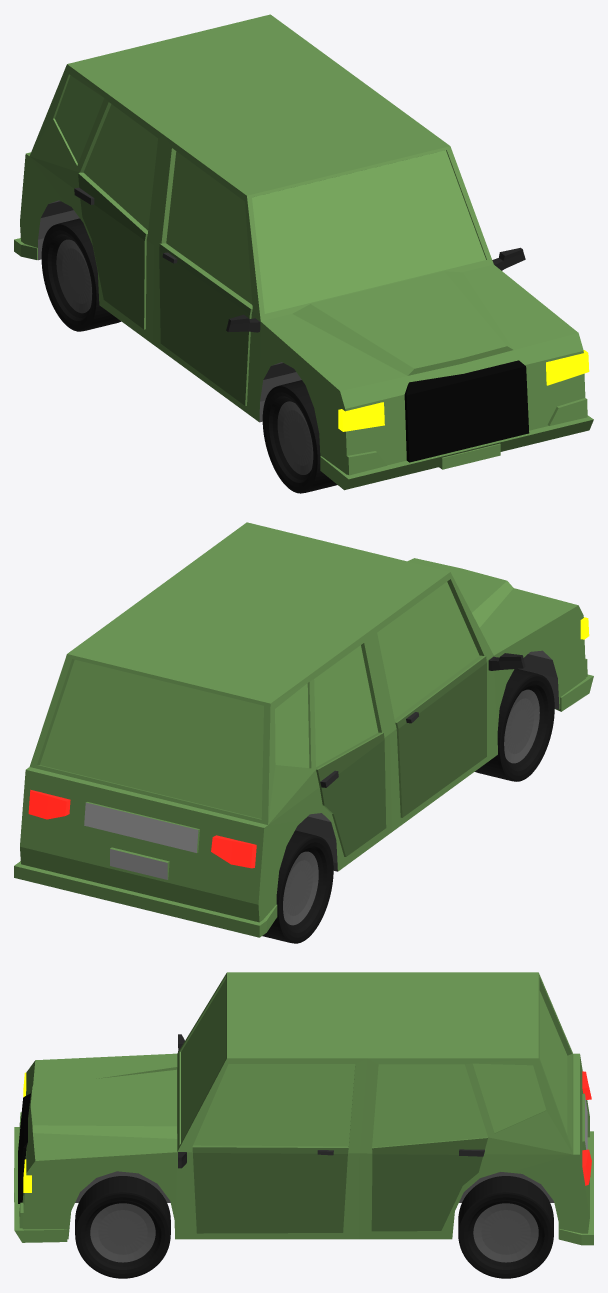
3 views of the same model, one above another, from view 1: azimuth 30°, elevation 25°; view 2: azimuth 150°, elevation 25°; view 3: azimuth 270°, elevation 25° (orthographic). The views are drawn at different scales.
Visible parts, largest first — view 1: SimpleBreakCar_Body_3, SimpleBreakCar_Body_Tire_BR_11, SimpleBreakCar_Body_Tire_FR_7; view 2: SimpleBreakCar_Body_3, SimpleBreakCar_Body_Tire_FR_7, SimpleBreakCar_Body_Tire_BR_11; view 3: SimpleBreakCar_Body_3, SimpleBreakCar_Body_Tire_FL_5, SimpleBreakCar_Body_Tire_BL_9.
Part boxes in pixels (box(x1,y1,x2,y2)): SimpleBreakCar_Body_3: box(14, 14, 593, 490); SimpleBreakCar_Body_Tire_BR_11: box(41, 218, 121, 331); SimpleBreakCar_Body_Tire_FR_7: box(262, 380, 337, 493); SimpleBreakCar_Body_3: box(14, 522, 593, 937); SimpleBreakCar_Body_Tire_FR_7: box(475, 669, 554, 781); SimpleBreakCar_Body_Tire_BR_11: box(262, 830, 333, 943); SimpleBreakCar_Body_3: box(14, 972, 593, 1245); SimpleBreakCar_Body_Tire_FL_5: box(75, 1176, 170, 1278); SimpleBreakCar_Body_Tire_BL_9: box(458, 1176, 553, 1278).
Size of what is drawn, in the model's own units: 2.1 by 1.66 by 4.1.
